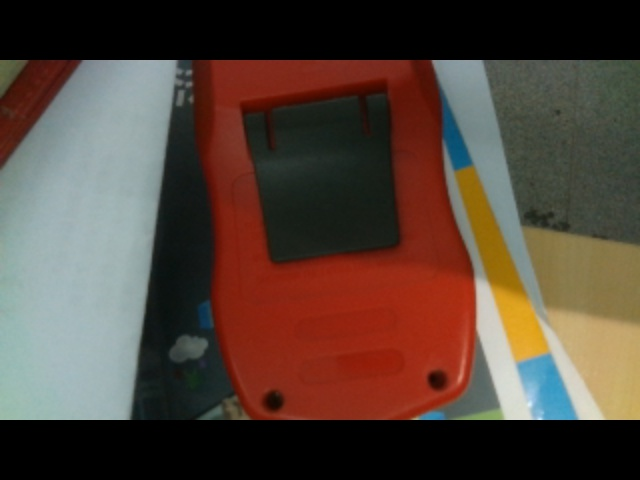Multimeter: (191, 60, 478, 419)
Screw holes: (261, 389, 286, 413), (426, 370, 448, 392)
